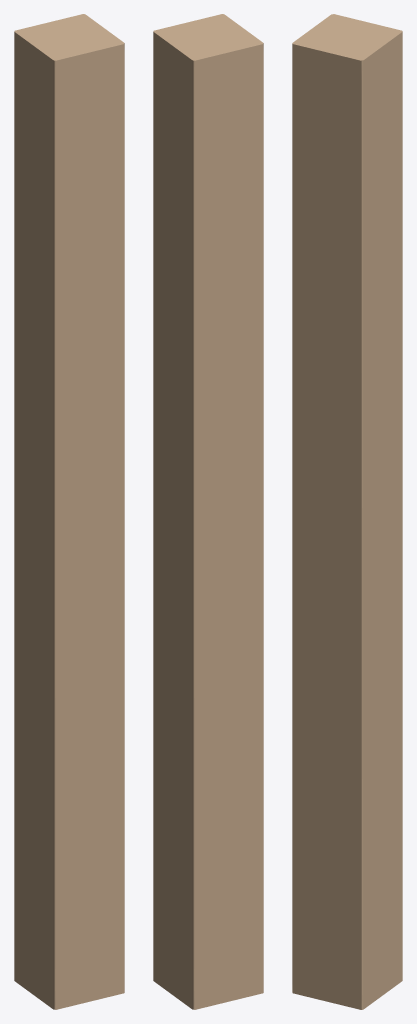
File: loft_post.glb
The picture shows the model from 3 angles, left to right: view 1: azimuth 30°, elevation 25°; view 2: azimuth 210°, elevation 25°; view 3: azimuth 330°, elevation 25°; orthographic projection.
Visible parts, largest first — view 1: loft_post_wood; view 2: loft_post_wood; view 3: loft_post_wood.
Boxes of the visible parts, x1,y1,x2,y2 form: loft_post_wood: (14, 14, 124, 1009); loft_post_wood: (153, 14, 263, 1009); loft_post_wood: (292, 14, 402, 1009).
Bounding box in the file's own units: 0.2 × 2.55 × 0.2.
